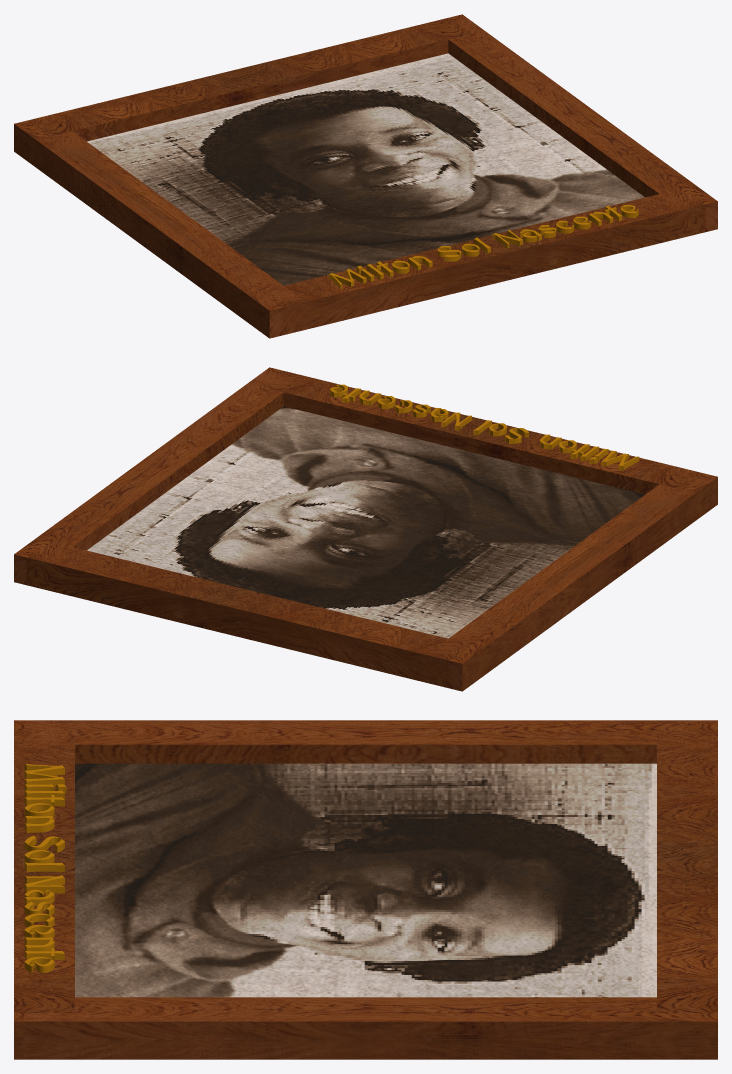
The model's file is monkframe5.glb.
The picture shows the model from 3 angles, top to bottom: view 1: azimuth 30°, elevation 25°; view 2: azimuth 150°, elevation 25°; view 3: azimuth 270°, elevation 25°; orthographic projection. The views are drawn at different scales.
Visible parts, largest first — view 1: Plane, Cube, William Dafilo; view 2: Plane, Cube, William Dafilo; view 3: Plane, Cube, William Dafilo.
Part boxes in pixels (x1,y1,x2,y2): Plane: (87, 53, 644, 285); Cube: (14, 14, 717, 338); William Dafilo: (328, 205, 638, 289); Plane: (87, 406, 644, 638); Cube: (14, 367, 717, 691); William Dafilo: (330, 384, 639, 470); Plane: (75, 763, 656, 997); Cube: (14, 720, 717, 1059); William Dafilo: (24, 764, 66, 972).
Size of the model in its own units: 0.6936 by 0.0482 by 0.6847.
Materials: 3 (2 with a texture image).
